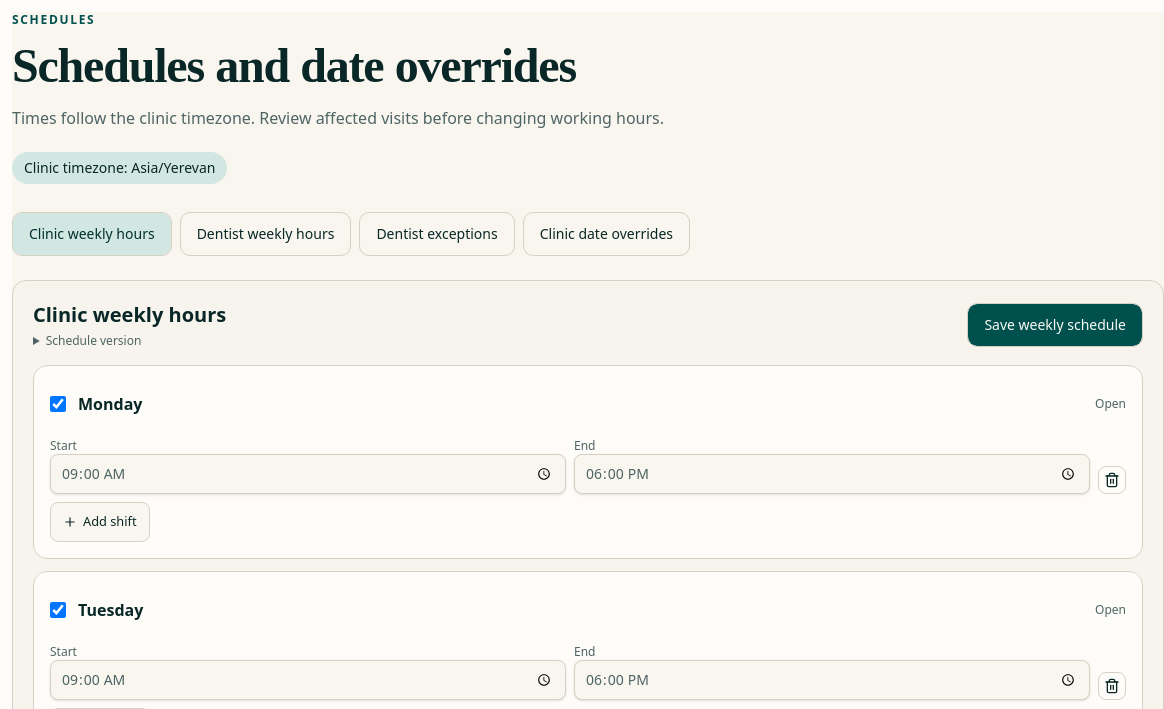
Scenario: staff schedule management › does not auto-retry stale writes and refreshes the authoritative revision
Expected: the text "Clinic timezone: Asia/Yerevan" is shown, [12, 152, 227, 184]
Click the button "Save weekly schedule": (1055, 325) [967, 303, 1143, 347]
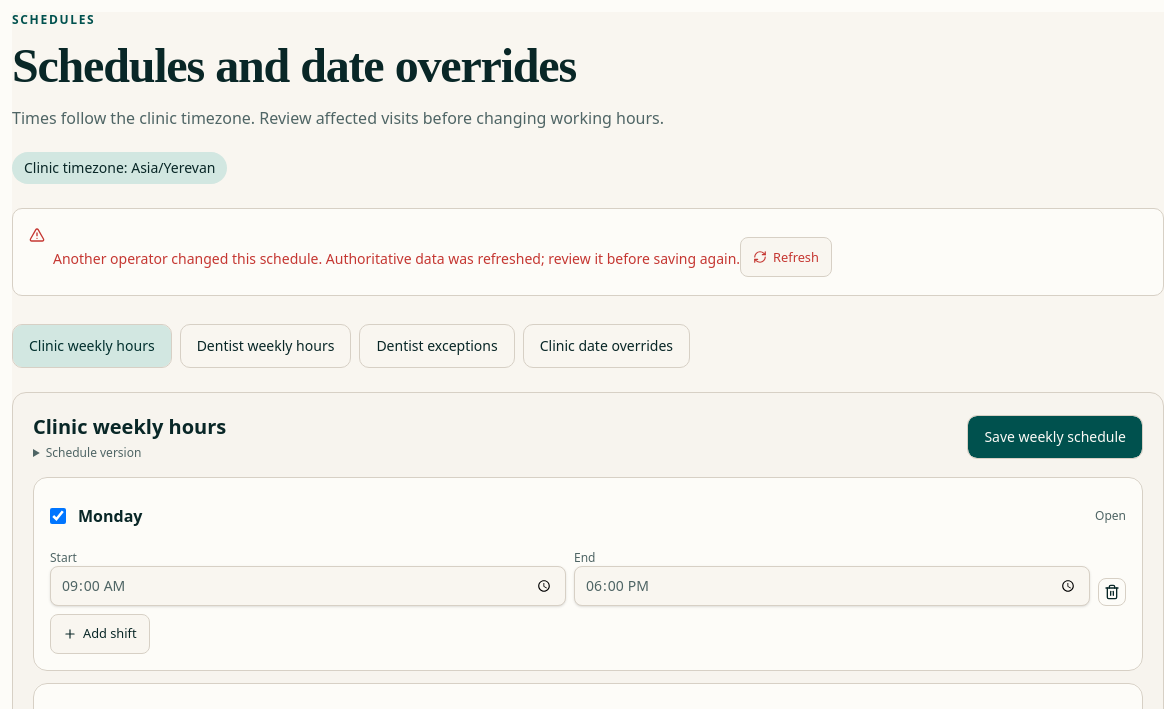
Result: the text "Another operator changed this schedule" is shown at [53, 249, 740, 268]
Click the heading "Schedule version": (94, 452) [46, 444, 141, 461]
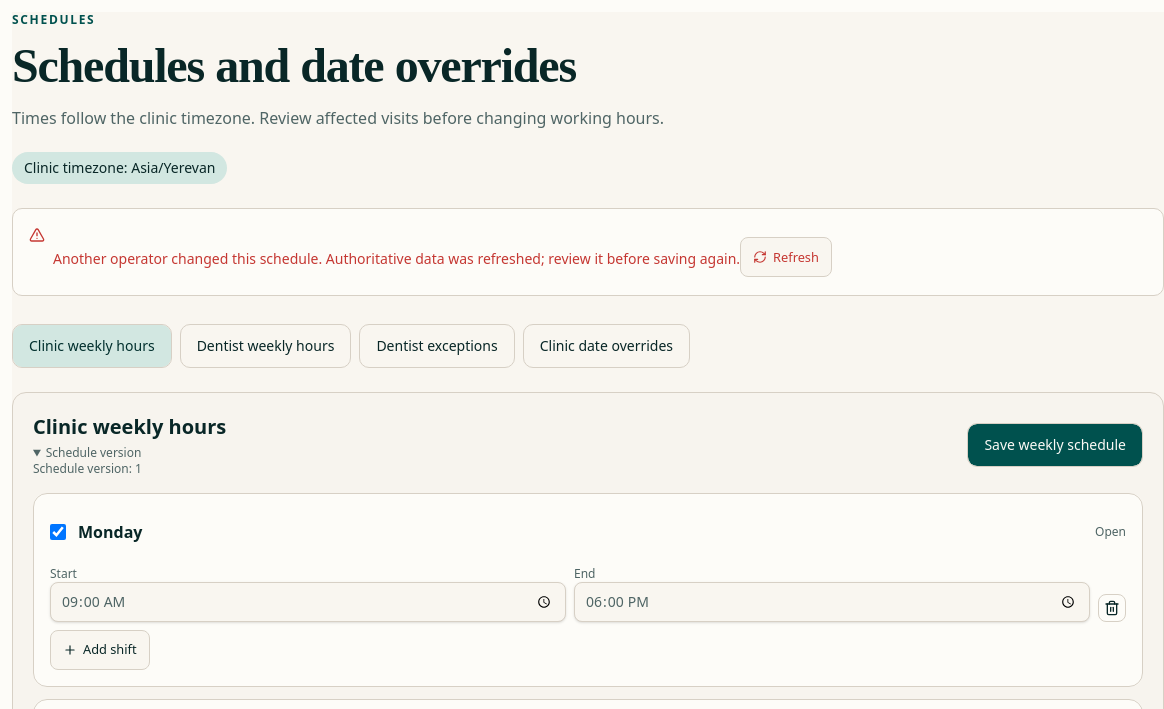
Result: the text "Schedule version: 1" is shown at [33, 460, 142, 477]
